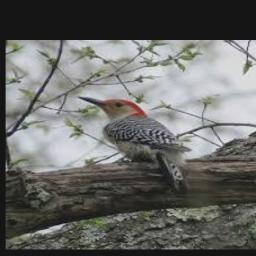Woodpecker: (77, 96, 191, 191)
